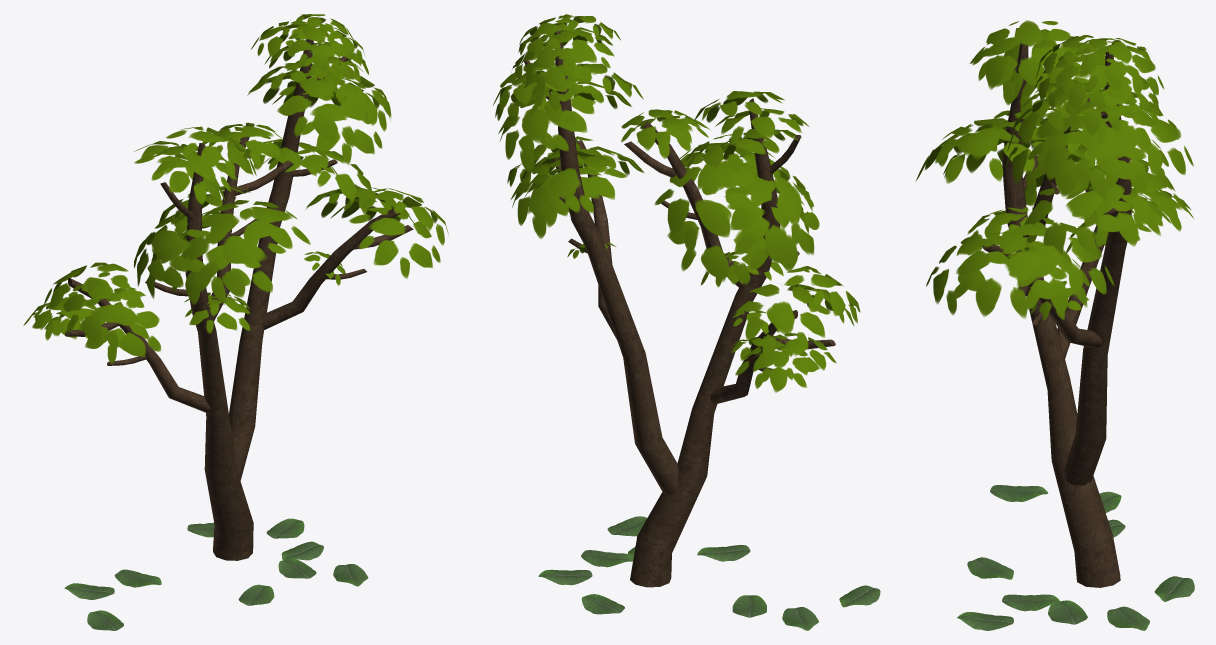
3 views of the same model, side by side, from view 1: azimuth 30°, elevation 25°; view 2: azimuth 150°, elevation 25°; view 3: azimuth 270°, elevation 25° (orthographic). The views are drawn at different scales.
Parts seen in each view (by area): view 1: Birch_8; view 2: Birch_8; view 3: Birch_8.
Boxes of the visible parts, x1,y1,x2,y2 form: Birch_8: (23, 14, 448, 630); Birch_8: (493, 14, 880, 630); Birch_8: (915, 20, 1194, 630).
Size of the model in its own units: 5.86 by 8 by 3.61.
Materials: 3 (3 with a texture image).
